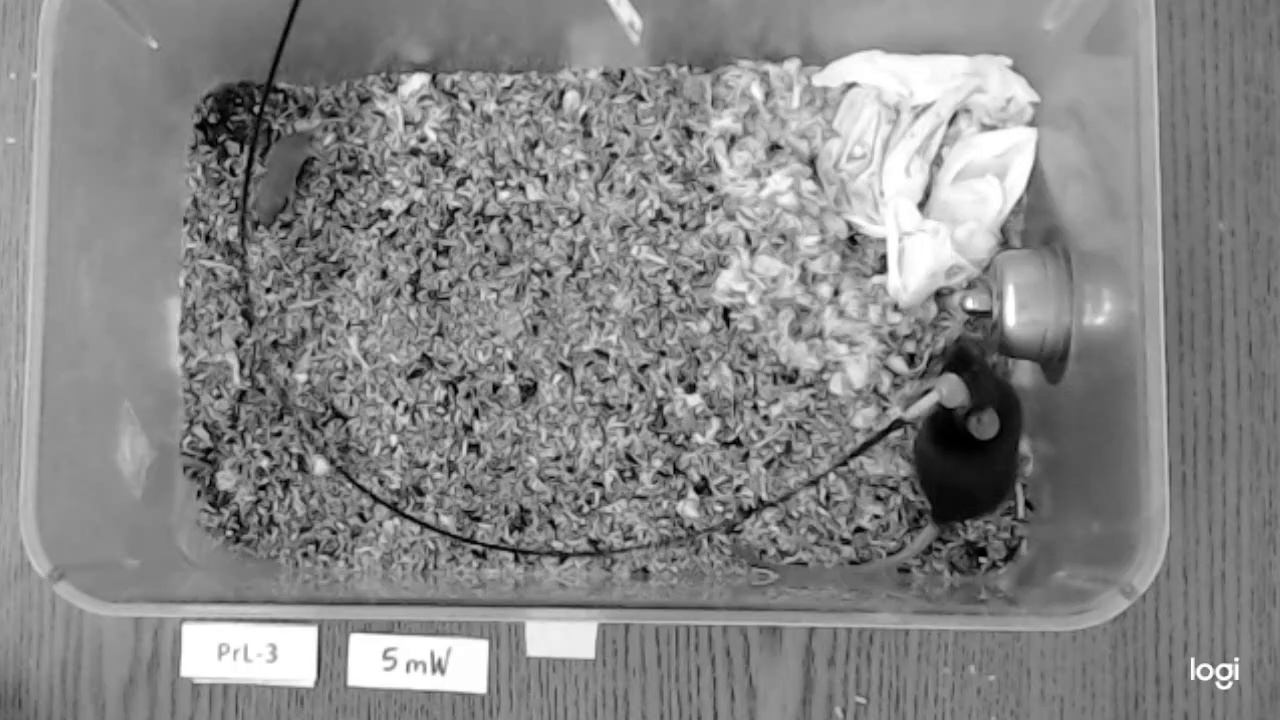child-mice: (250, 125, 313, 228)
